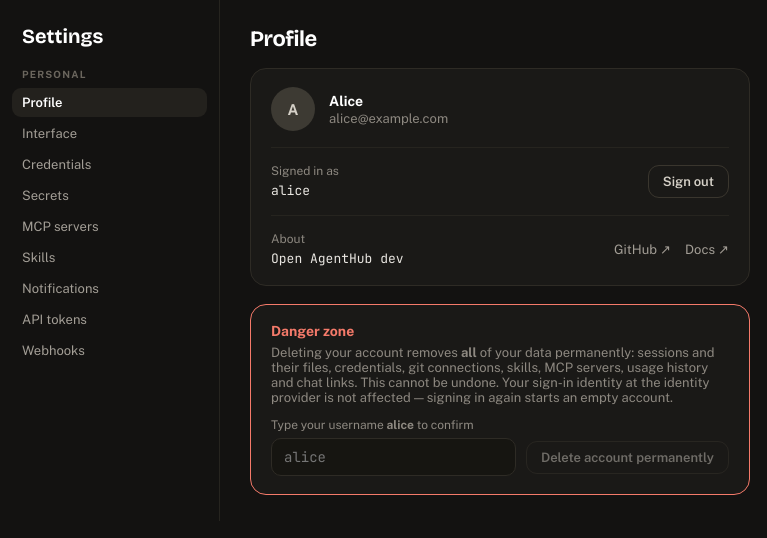
Test: account deletion (profile danger zone) › keeps the delete button disabled until the exact username is typed
Expected: the button "Delete account permanently" is disabled, [526,440,729,474]
In the field labelled "Type your username alice to confirm": (394, 457) [271,438,516,476], type "wrong"
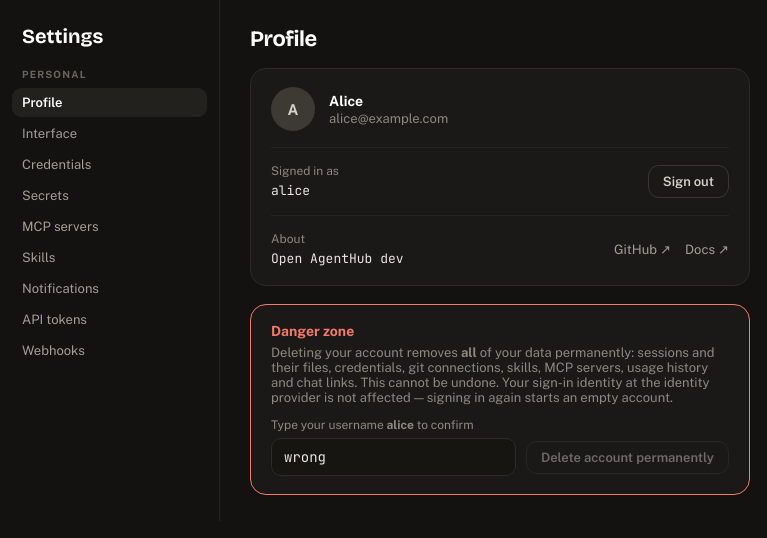
Expected: the button "Delete account permanently" is disabled, [526,440,729,474]
Replace the text in the field labelled "Type your username alice to confirm" with "alice": (394, 457) [271,438,516,476]
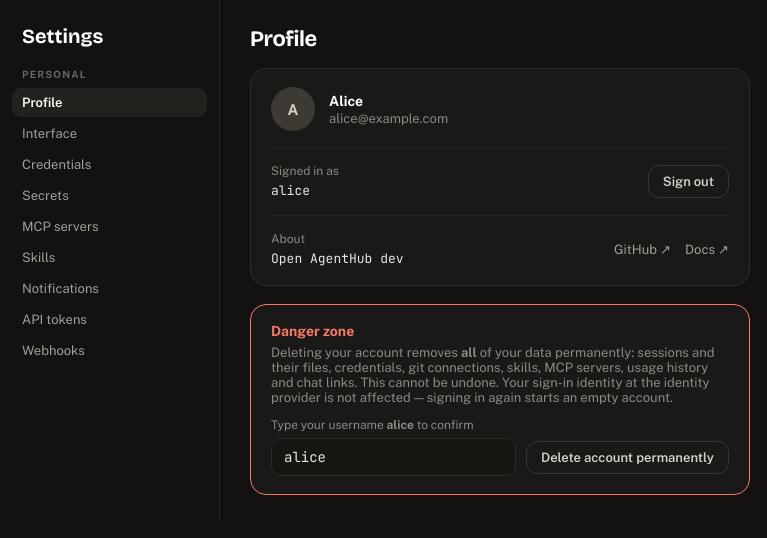
Expected: the button "Delete account permanently" is enabled, [526,440,729,474]
